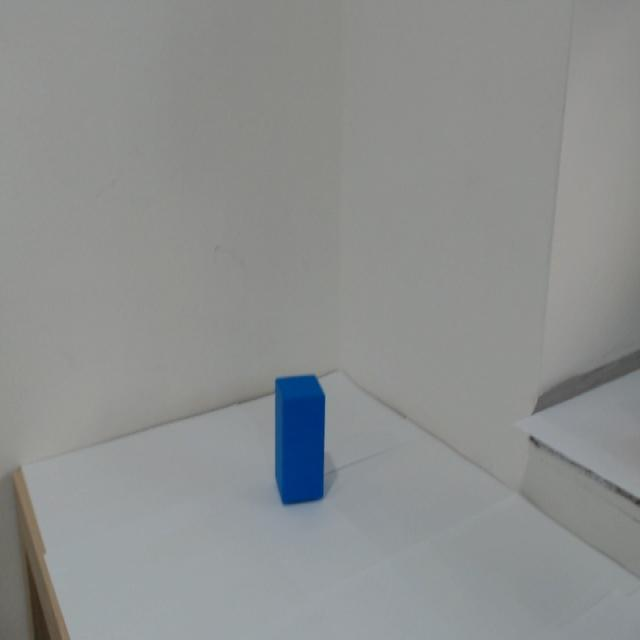cube: (249, 356, 348, 573)
